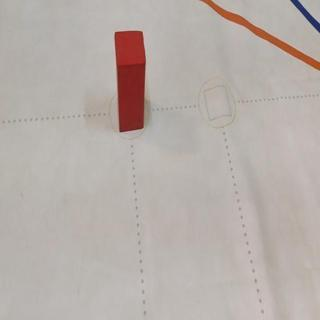redbox: (115, 29, 145, 132)
